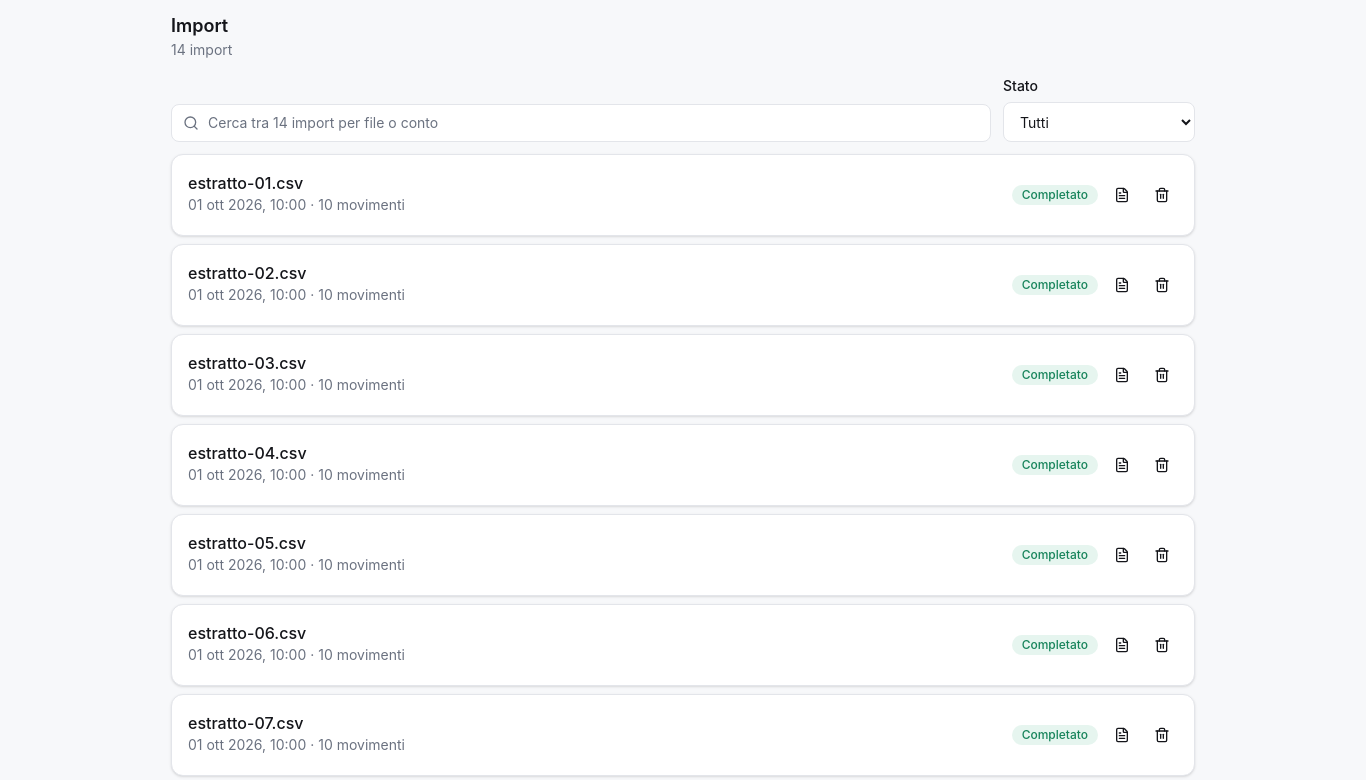
Elenco import › filtra per stato: i falliti o annullati
expect the text "estratto-01.csv" is shown: met, box [188,173,303,193]
Select "Falliti o annullati" in the dropdown labelled "Stato" at (1099, 122), box [1003,102,1195,142]
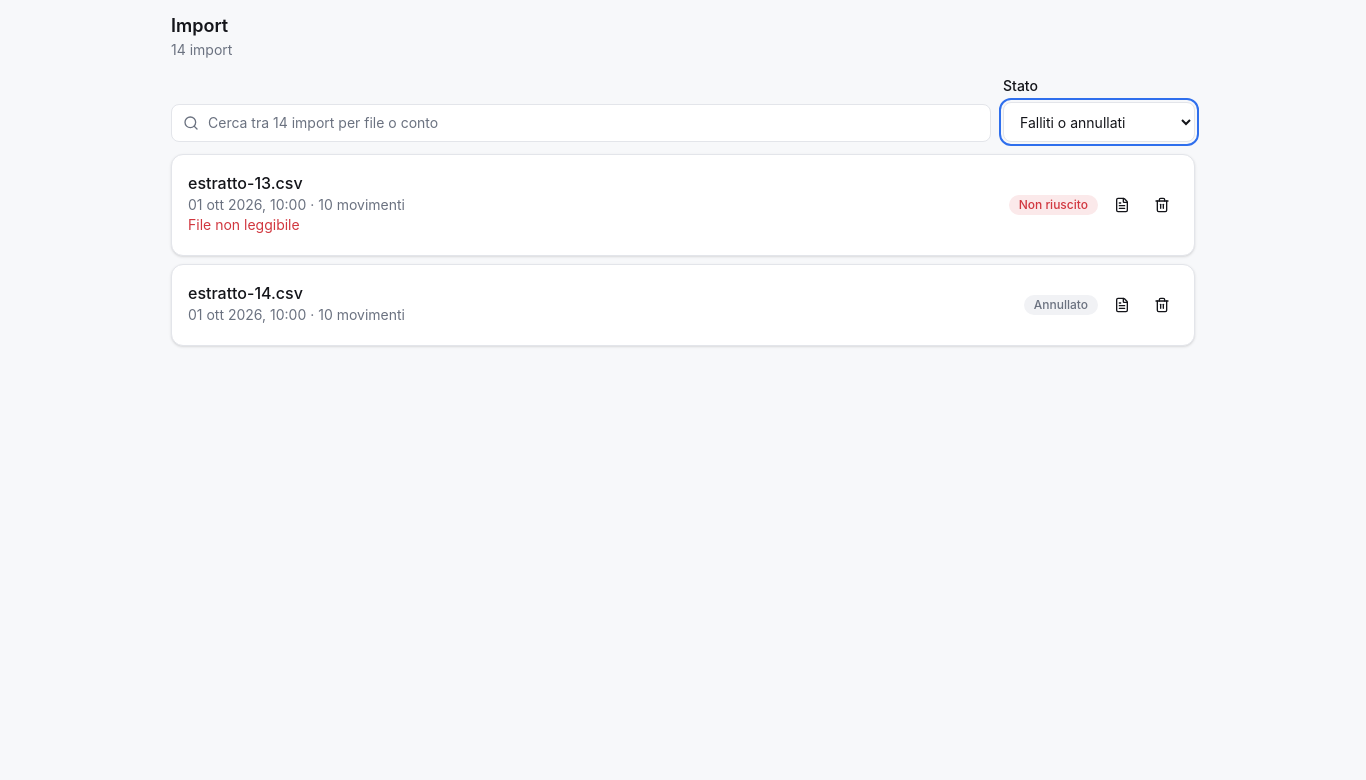
expect the text "estratto-13.csv" is shown: met, box [188,173,303,193]
expect the text "estratto-14.csv" is shown: met, box [188,283,303,303]
expect the text "estratto-01.csv" is gone: met
